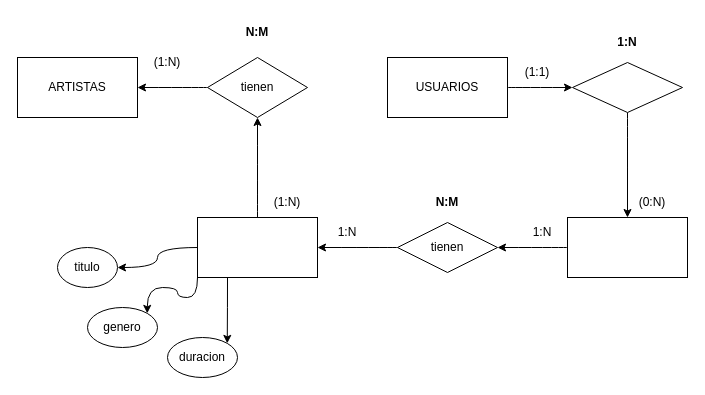
Some shapes in this 705 by 395 pixel diagram are drawn without their labels. Each missing label, with the centre of its shape:
CANCIONES: the point at 257,247
crean: the point at 627,87
LISTAS DE REPRODUCCIONES: the point at 627,247
